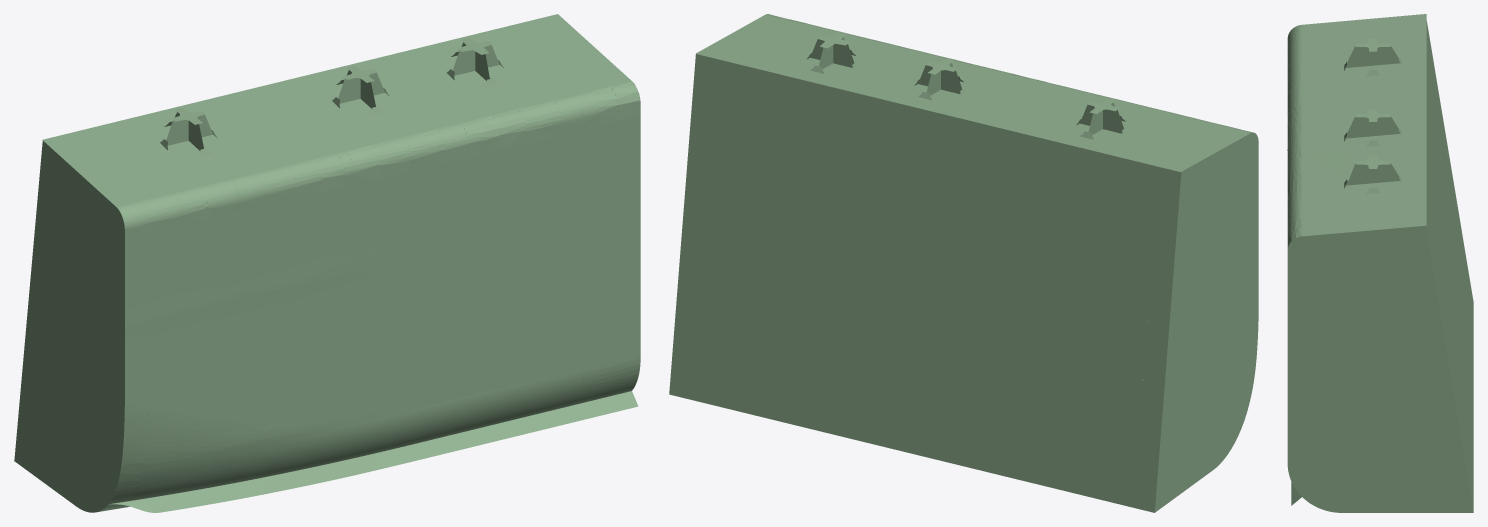
The model's file is NO_4_WING_WATER_BLT_TK_SB.glb.
3 views of the same model, side by side, from view 1: azimuth 30°, elevation 25°; view 2: azimuth 150°, elevation 25°; view 3: azimuth 270°, elevation 25° (orthographic). The views are drawn at different scales.
Visible parts, largest first — view 1: PL_OuterShellxNo4SideTankS_042002-19_NVA32_1993, PL_OuterShellxNo4SideTankS_042004-19_NVA32_1993, PL_OuterShellxNo4SideTankS_042001-19_NVA32_1993, PL_OuterShellxNo4SideTankS_066003-19_NVA32_1993, PL_OuterShellxNo4SideTankS_032002-19_NVA32_1993, PL_OuterShellxNo4SideTankS_042003-19_NVA32_1993, PL_OuterShellxNo4SideTankS_075001-20_NVD36_1993, PL_OuterShellxNo4SideTankS_041004-19_NVA32_1993, PL_OuterShellxNo4SideTankS_067003-19_NVA32_1993, PL_OuterShellxNo4SideTankS_074001-20_NVD36_1993, PL_OuterShellxNo4SideTankS_066001-19_NVA32_1993, PL_SideTransBHDxBHD60S_001002-19.5_NVA32_1993 (+142 smaller); view 2: PL_LBHDxNo5CenterTankS_017002-19.5_NVA36_1993, PL_LBHDxNo5CenterTankS_009003-19.5_NVA36_1993, PL_LBHDxNo5CenterTankS_018002-17.5_NVA32_1993, PL_LBHDxNo5CenterTankS_013003-15_NVA32_1993, PL_LBHDxNo5CenterTankS_038002-17.5_NVA36_1993, PL_LBHDxNo5CenterTankS_016002-17.5_NVA36_1993, PL_LBHDxNo5CenterTankS_010003-17.5_NVA32_1993, PL_LBHDxNo5CenterTankS_017004-19.5_NVA36_1993, PL_LBHDxNo5CenterTankS_019003-17_NVA32_1993, PL_LBHDxNo5CenterTankS_021003-15_NVA32_1993, PL_LBHDxNo5CenterTankS_017001-19.5_NVA36_1993, PL_LBHDxNo5CenterTankS_016004-17.5_NVA36_1993 (+123 smaller); view 3: PL_SideTransBHDxBHD69S_004001-18.5_NVA32_1993, PL_SideTransBHDxBHD69S_002001-19.5_NVA32_1993, PL_SideTransBHDxBHD69S_001002-19.5_NVA32_1993, PL_SideTransBHDxBHD69S_003002-18.5_NVA32_1993, PL_SideTransBHDxBHD69S_005002-17_NVA32_1993, PL_SideTransBHDxBHD69S_014002-13.5_NVA_1993, PL_SideTransBHDxBHD69S_010001-14.5_NVA32_1993, PL_SideTransBHDxBHD69S_015001-13.5_NVA_1993, PL_SideTransBHDxBHD69S_006001-17_NVA32_1993, PL_SideTransBHDxBHD69S_009002-14.5_NVA32_1993, PL_SideTransBHDxBHD69S_009001-14.5_NVA32_1993, PL_SideTransBHDxBHD69S_008004-15.5_NVA32_1993 (+77 smaller).
Boxes of the visible parts, x1,y1,x2,y2 form: PL_OuterShellxNo4SideTankS_042002-19_NVA32_1993: (205, 292, 270, 351); PL_OuterShellxNo4SideTankS_042004-19_NVA32_1993: (322, 265, 380, 322); PL_OuterShellxNo4SideTankS_042001-19_NVA32_1993: (148, 308, 204, 365); PL_OuterShellxNo4SideTankS_066003-19_NVA32_1993: (205, 378, 270, 430); PL_OuterShellxNo4SideTankS_032002-19_NVA32_1993: (445, 236, 499, 292); PL_OuterShellxNo4SideTankS_042003-19_NVA32_1993: (270, 279, 322, 335); PL_OuterShellxNo4SideTankS_075001-20_NVD36_1993: (200, 172, 270, 220); PL_OuterShellxNo4SideTankS_041004-19_NVA32_1993: (205, 345, 270, 394); PL_OuterShellxNo4SideTankS_067003-19_NVA32_1993: (322, 351, 380, 402); PL_OuterShellxNo4SideTankS_074001-20_NVD36_1993: (140, 187, 204, 235); PL_OuterShellxNo4SideTankS_066001-19_NVA32_1993: (147, 394, 204, 443); PL_SideTransBHDxBHD60S_001002-19.5_NVA32_1993: (14, 420, 62, 495); PL_LBHDxNo5CenterTankS_017002-19.5_NVA36_1993: (1018, 436, 1082, 494); PL_LBHDxNo5CenterTankS_009003-19.5_NVA36_1993: (743, 369, 804, 426); PL_LBHDxNo5CenterTankS_018002-17.5_NVA32_1993: (1021, 396, 1085, 451); PL_LBHDxNo5CenterTankS_013003-15_NVA32_1993: (756, 198, 818, 253); PL_LBHDxNo5CenterTankS_038002-17.5_NVA36_1993: (1041, 139, 1105, 192); PL_LBHDxNo5CenterTankS_016002-17.5_NVA36_1993: (876, 98, 940, 152); PL_LBHDxNo5CenterTankS_010003-17.5_NVA32_1993: (746, 329, 807, 383); PL_LBHDxNo5CenterTankS_017004-19.5_NVA36_1993: (914, 411, 972, 467); PL_LBHDxNo5CenterTankS_019003-17_NVA32_1993: (1025, 350, 1089, 402); PL_LBHDxNo5CenterTankS_021003-15_NVA32_1993: (927, 239, 985, 294); PL_LBHDxNo5CenterTankS_017001-19.5_NVA36_1993: (1079, 452, 1135, 507); PL_LBHDxNo5CenterTankS_016004-17.5_NVA36_1993: (766, 72, 828, 124); PL_SideTransBHDxBHD69S_004001-18.5_NVA32_1993: (1287, 442, 1380, 476); PL_SideTransBHDxBHD69S_002001-19.5_NVA32_1993: (1289, 476, 1380, 512); PL_SideTransBHDxBHD69S_001002-19.5_NVA32_1993: (1393, 476, 1473, 512); PL_SideTransBHDxBHD69S_003002-18.5_NVA32_1993: (1393, 442, 1467, 476); PL_SideTransBHDxBHD69S_005002-17_NVA32_1993: (1393, 403, 1460, 435); PL_SideTransBHDxBHD69S_014002-13.5_NVA_1993: (1287, 270, 1363, 295); PL_SideTransBHDxBHD69S_010001-14.5_NVA32_1993: (1287, 333, 1344, 366); PL_SideTransBHDxBHD69S_015001-13.5_NVA_1993: (1287, 231, 1363, 259); PL_SideTransBHDxBHD69S_006001-17_NVA32_1993: (1287, 403, 1344, 435); PL_SideTransBHDxBHD69S_009002-14.5_NVA32_1993: (1393, 333, 1448, 366); PL_SideTransBHDxBHD69S_009001-14.5_NVA32_1993: (1344, 333, 1392, 366); PL_SideTransBHDxBHD69S_008004-15.5_NVA32_1993: (1393, 377, 1454, 403).
Size of the model in its own units: 47.16 by 31.51 by 17.51.
